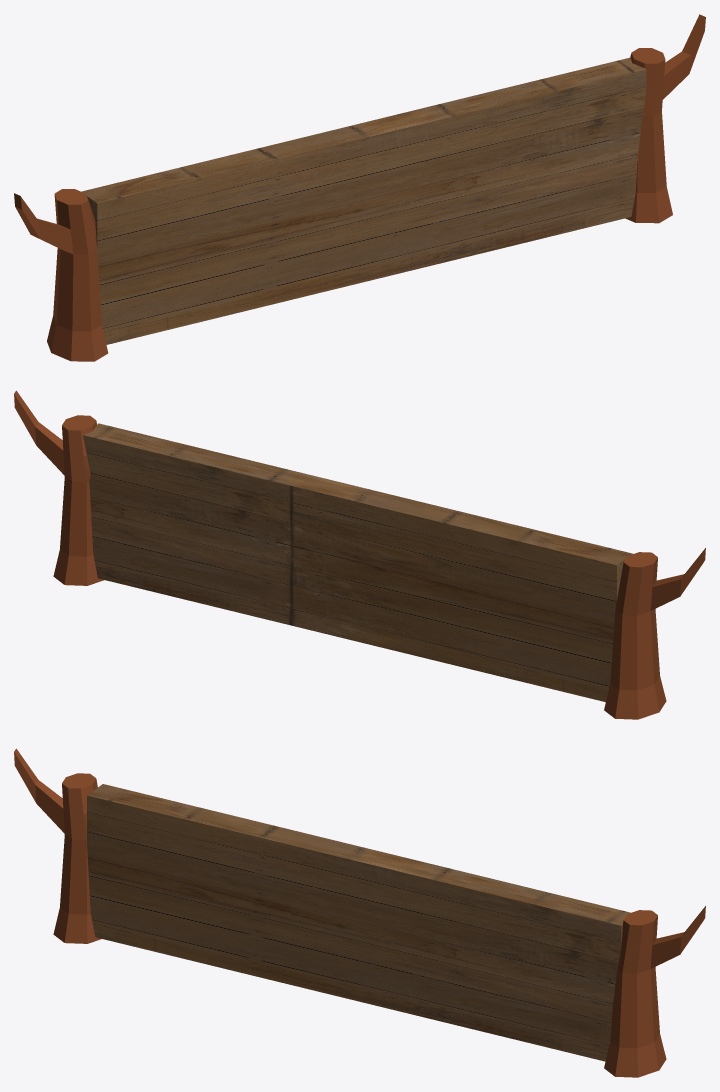
The model's file is door_01.glb.
The picture shows the model from 3 angles, top to bottom: view 1: azimuth 30°, elevation 25°; view 2: azimuth 150°, elevation 25°; view 3: azimuth 330°, elevation 25°; orthographic projection. The views are drawn at different scales.
Parts seen in each view (by area): view 1: door_1.001; view 2: door_1.001; view 3: door_1.001.
Boxes of the visible parts, x1,y1,x2,y2 form: door_1.001: [14, 14, 705, 361]; door_1.001: [14, 390, 705, 719]; door_1.001: [14, 748, 705, 1077].
Size of the model in its own units: 19.36 by 4.58 by 1.85.
2 materials, 2 textured.
